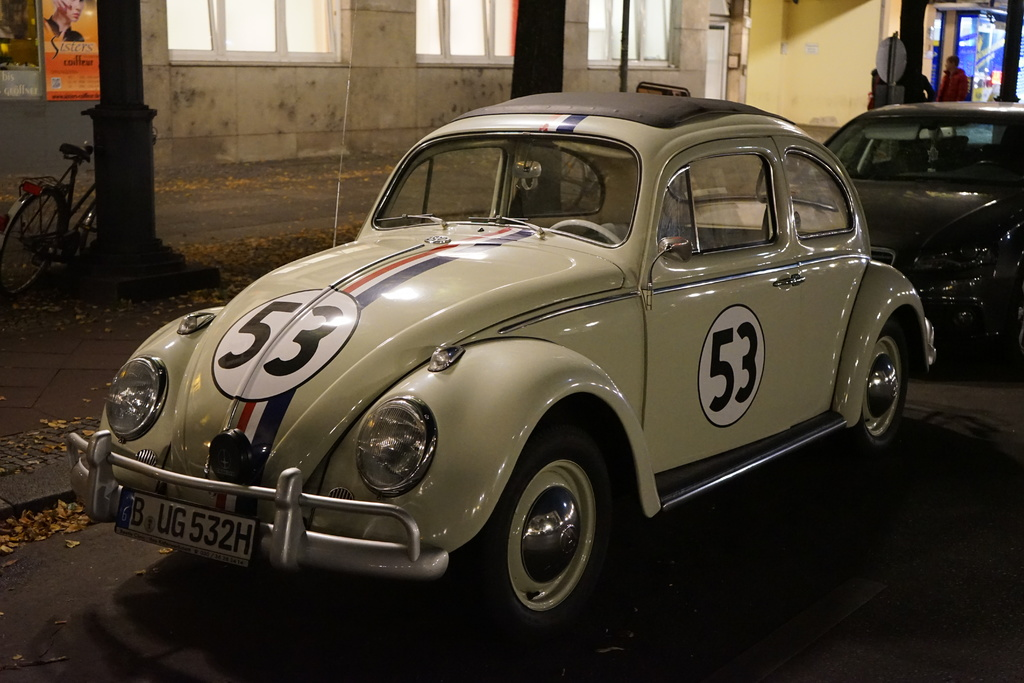Car: (65, 0, 936, 638), (820, 101, 1023, 362)
